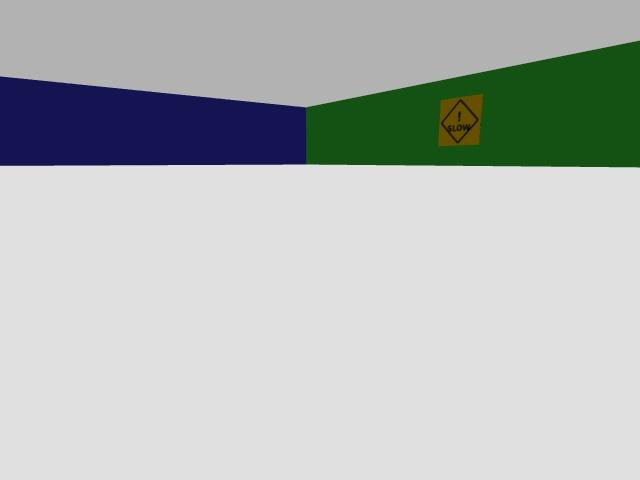slow: (438, 94, 481, 145)
